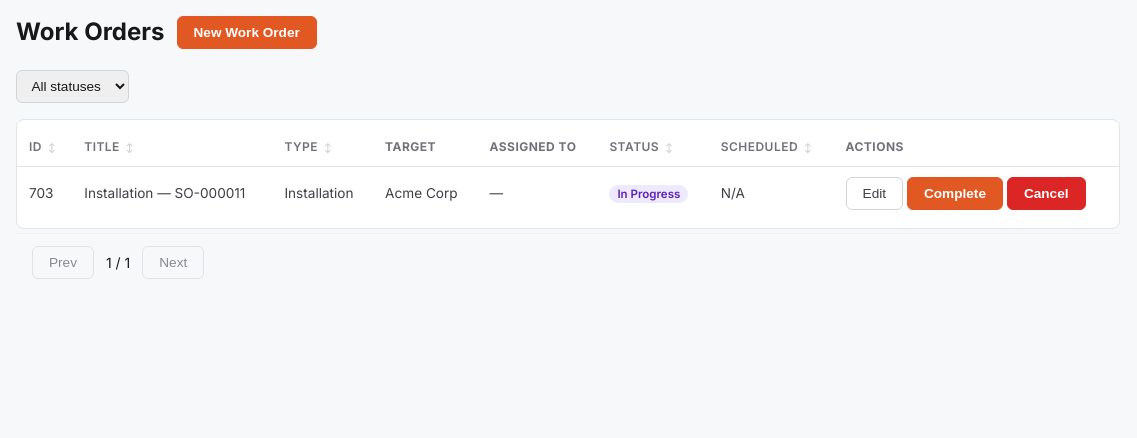
Scenario: WorkOrders — legal documents panel › shows signed state instead of a sign button once signed
This screenshot has width=1137, height=438.
Click the text "Installation — SO-000011".
click(172, 193)  # box 72,166 -> 272,220
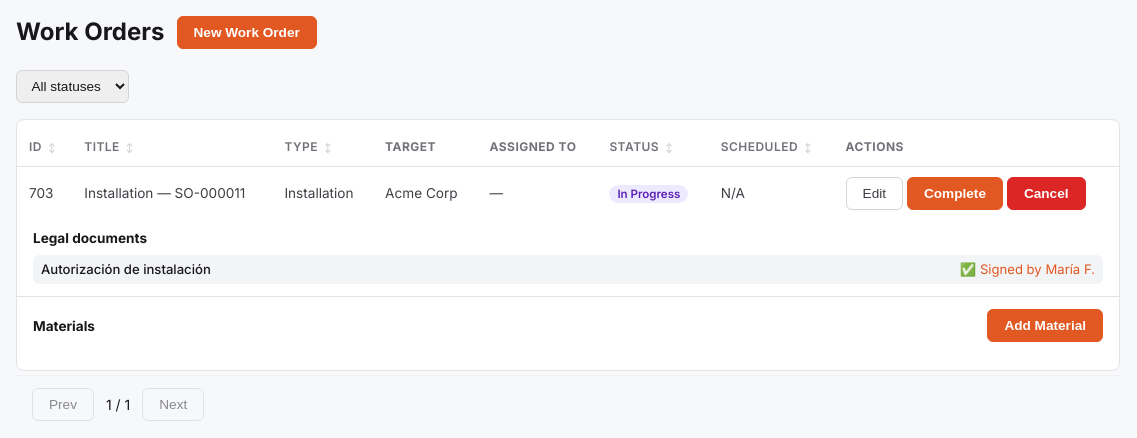
Expected: the text "✅ Signed by María F." is shown, 960,260 -> 1095,279
